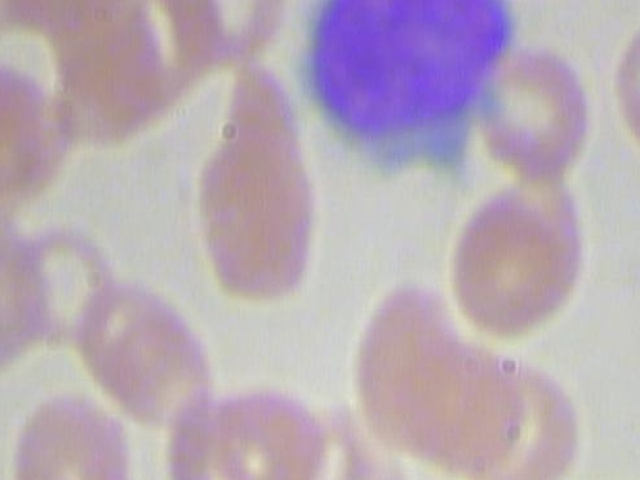RBC: (195, 55, 318, 304), (77, 270, 221, 430), (445, 181, 582, 348), (469, 46, 595, 188), (591, 13, 640, 229), (639, 0, 640, 24)
WBC: (280, 0, 536, 185)
